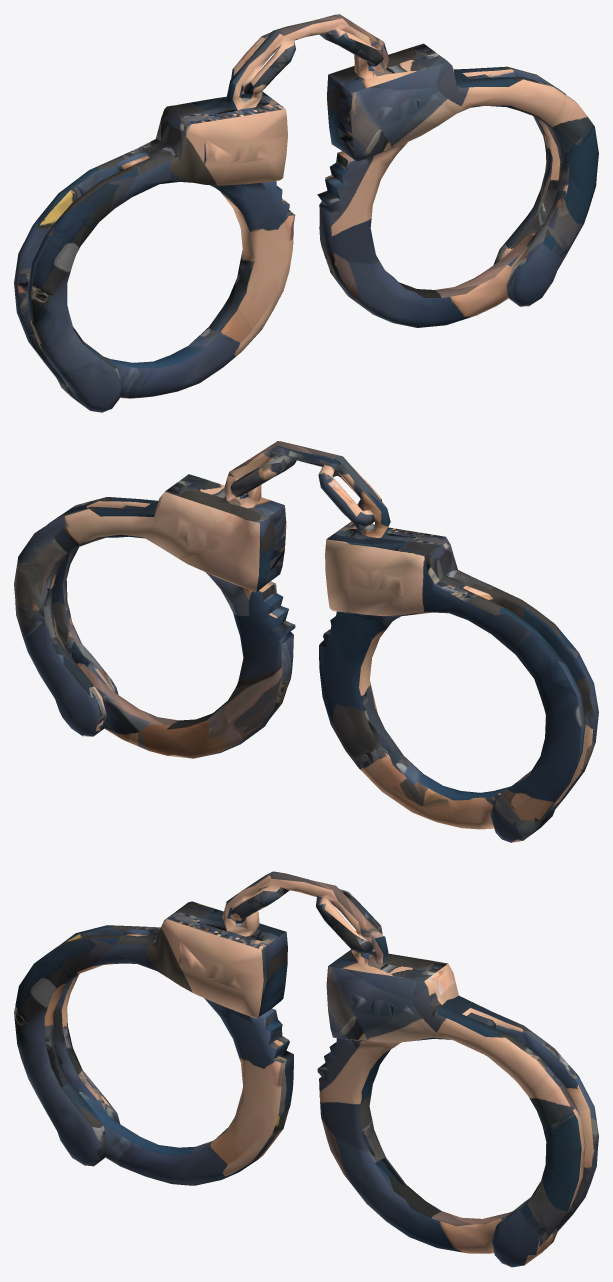
File: Handcuffs.fbx
3 views of the same model, one above another, from view 1: azimuth 30°, elevation 25°; view 2: azimuth 150°, elevation 25°; view 3: azimuth 330°, elevation 25° (orthographic).
Parts seen in each view (by area): view 1: Mesh_0; view 2: Mesh_0; view 3: Mesh_0.
Boxes of the visible parts, box(x1,y1,x2,y2) form: Mesh_0: box(14, 14, 598, 412); Mesh_0: box(14, 441, 598, 842); Mesh_0: box(14, 871, 598, 1267).
Size of the model in its own units: 200 by 113 by 16.84.
